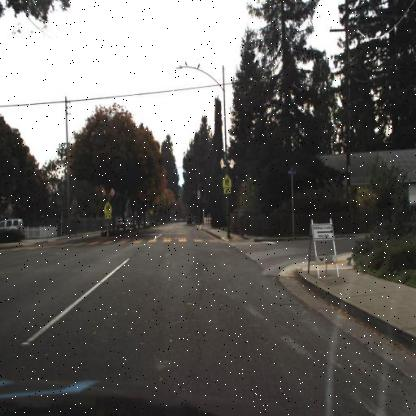car: (0, 217, 28, 240)
